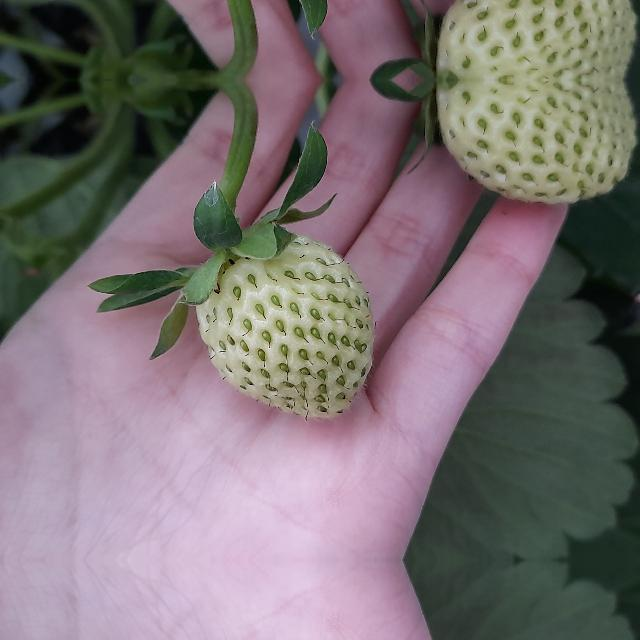Health_25: (196, 232, 374, 418)
